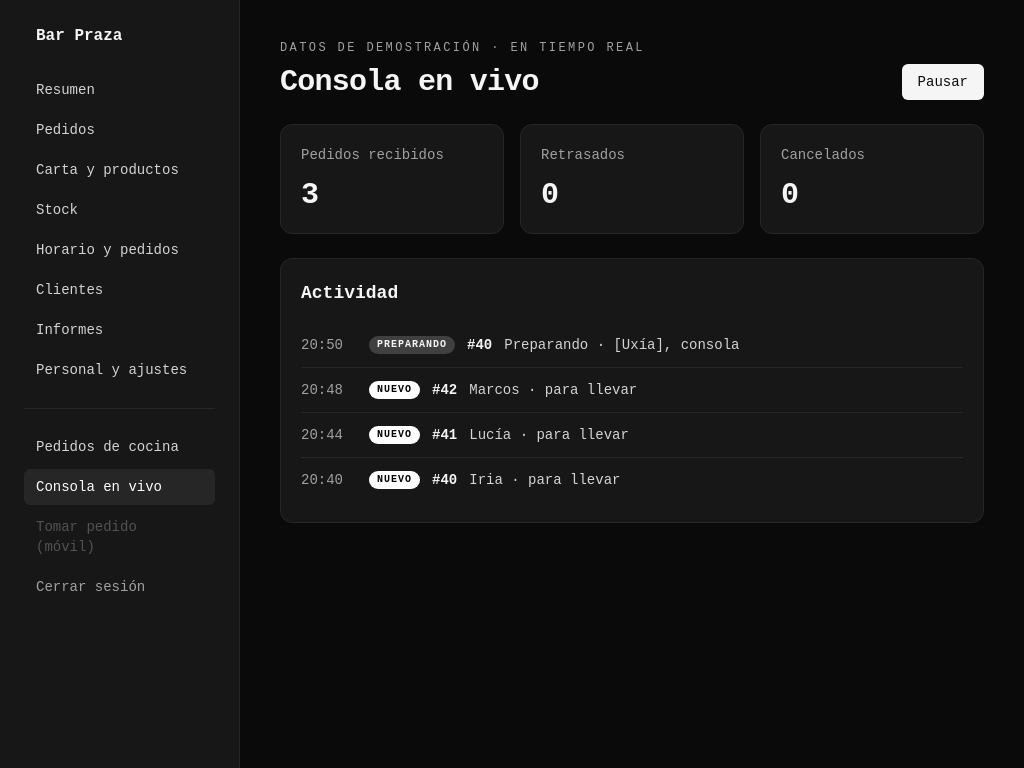
Test: LiveConsolePage › holds new events while paused, and adds them on resume
Click the button "Pausar" at (943, 82), box [902,64,984,100]
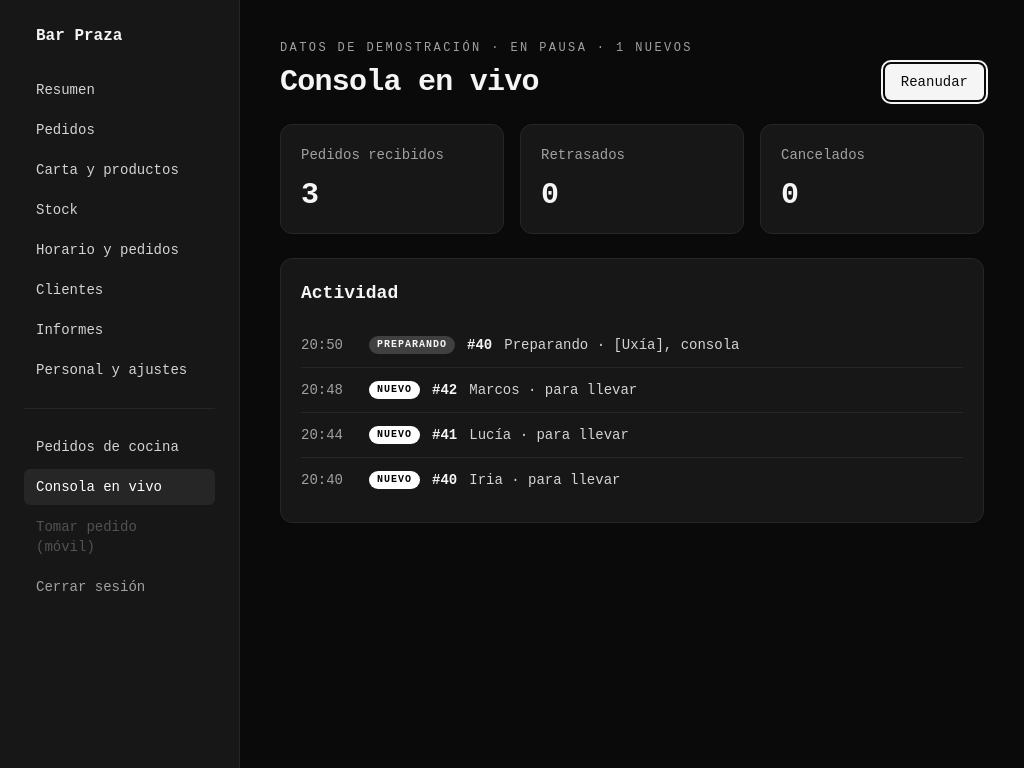
Expected: the number of list items is 4, [301,323,963,368]; [301,368,963,413]; [301,413,963,458]; [301,471,620,489]
Expected: the text "Datos de demostración · en pausa · 1 nuevos" is shown, [280,40,693,56]
Click the button "Reanudar" at (934, 82), box [885,64,984,100]
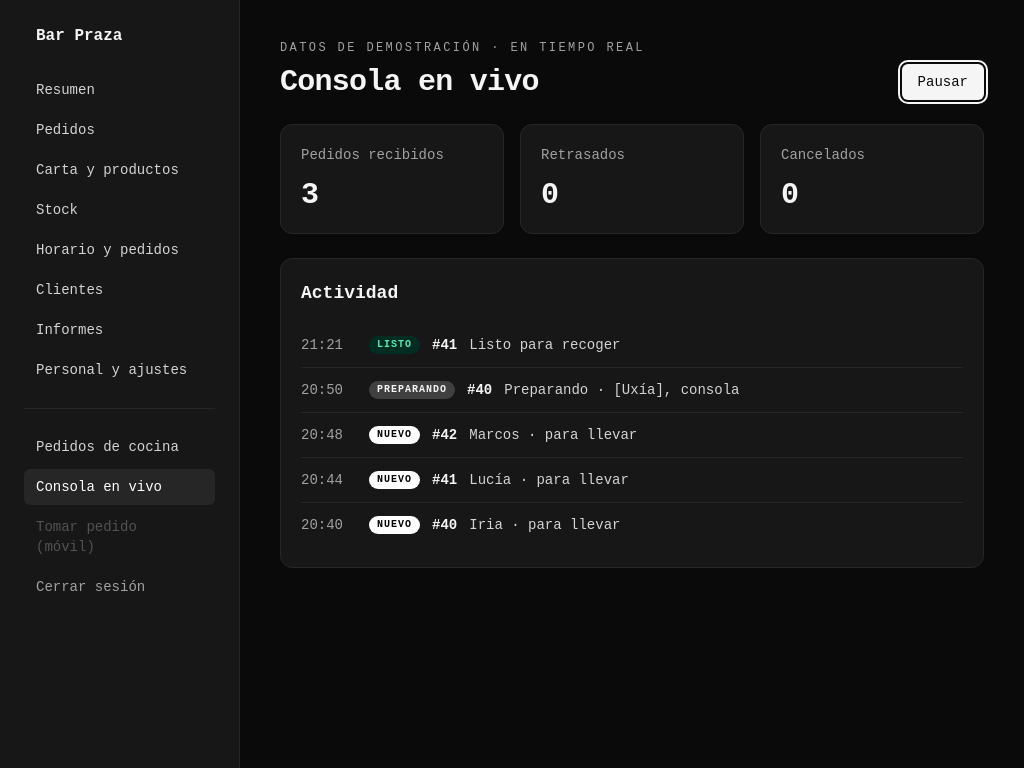
Expected: the number of list items is 5, [301,323,963,368]; [301,368,963,413]; [301,413,963,458]; [301,458,963,503]; [301,516,620,534]
Expected: the text "Datos de demostración · en tiempo real" is shown, [280,40,645,56]
